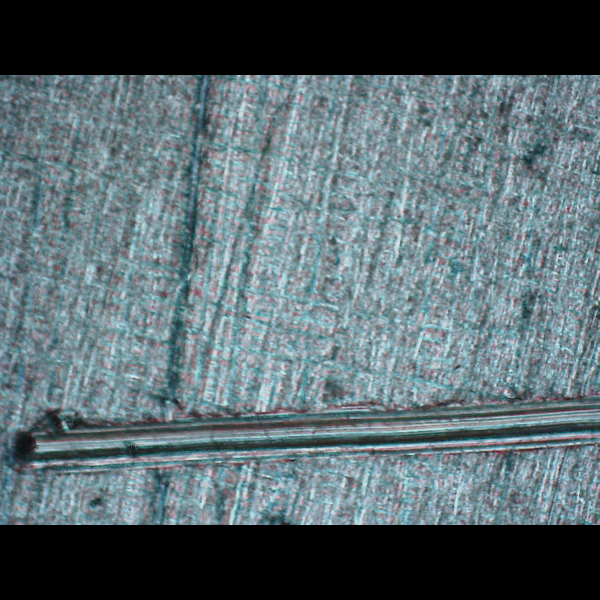d: (5, 377, 600, 484)
